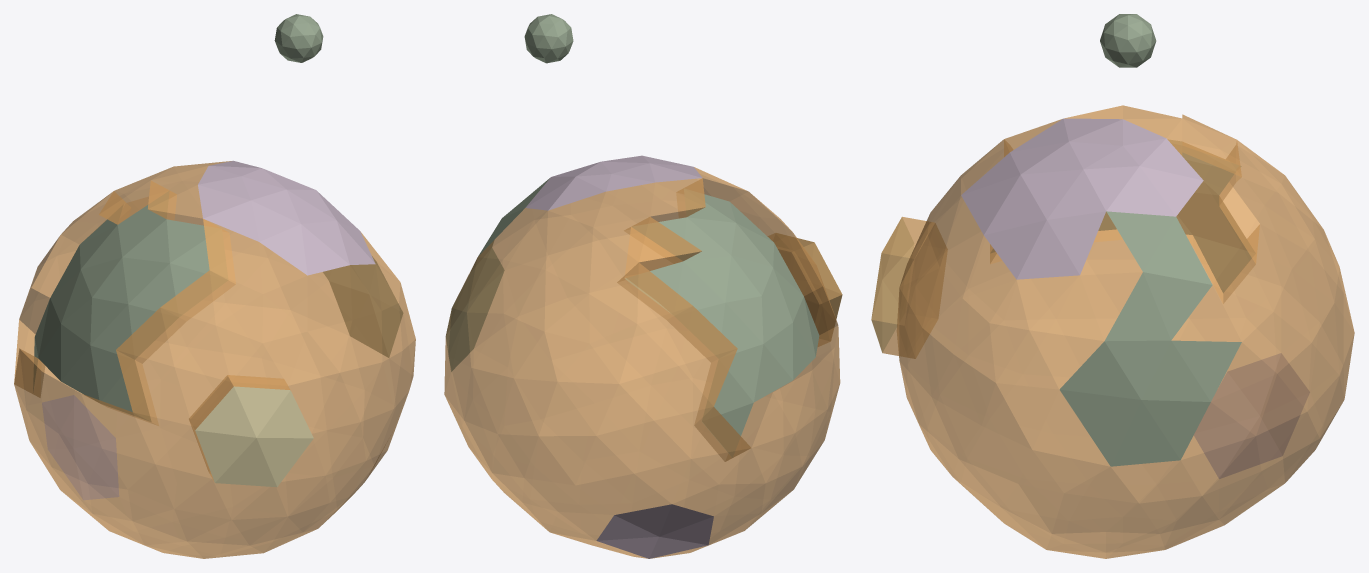
3 renders of one model, left to right at view 1: azimuth 30°, elevation 25°; view 2: azimuth 150°, elevation 25°; view 3: azimuth 270°, elevation 25°, orthographic. The views are drawn at different scales.
Parts seen in each view (by area): view 1: Planet, Satellite; view 2: Planet, Satellite; view 3: Planet, Satellite.
Part boxes in pixels (box(x1,y1,x2,y2)): Planet: box(14, 160, 415, 558); Satellite: box(274, 14, 323, 62); Planet: box(444, 155, 842, 558); Satellite: box(524, 14, 573, 63); Planet: box(871, 105, 1354, 558); Satellite: box(1100, 14, 1156, 67).
Bounding box in the file's own units: 793 × 1112 × 854.
